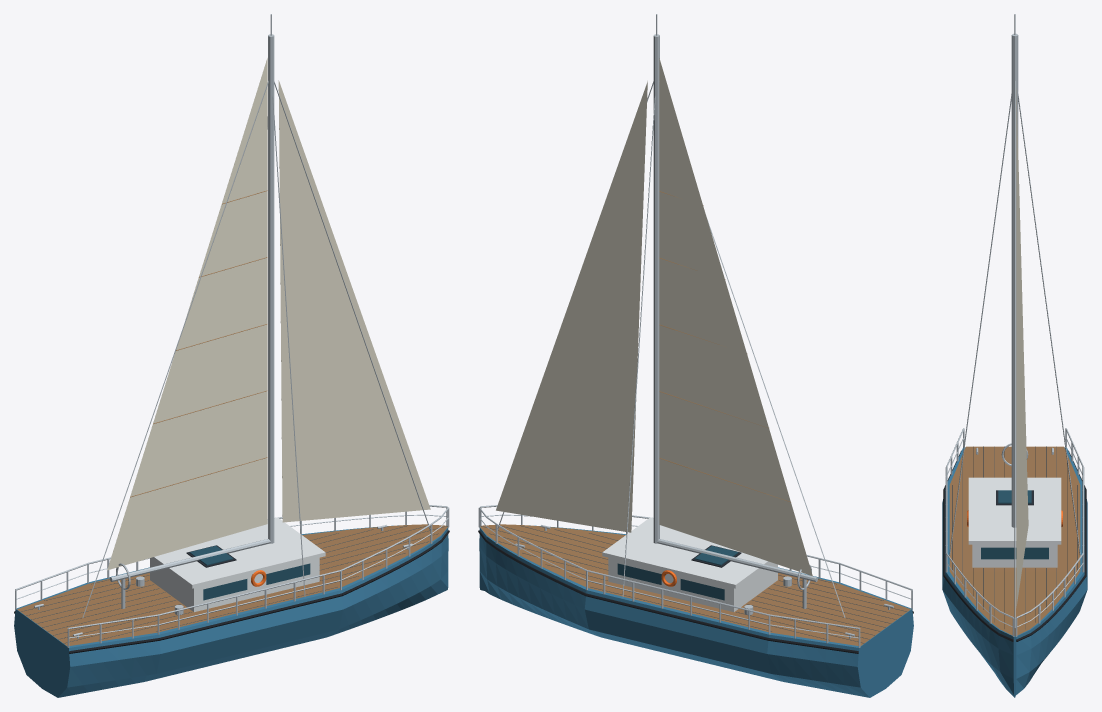
File: sailboat_lod0.glb
3 views of the same model, side by side, from view 1: azimuth 30°, elevation 25°; view 2: azimuth 150°, elevation 25°; view 3: azimuth 270°, elevation 25° (orthographic). The views are drawn at different scales.
Parts seen in each view (by area): view 1: body; view 2: body; view 3: body.
Part boxes in pixels (x1,y1,x2,y2): body: (14, 14, 449, 697); body: (478, 14, 913, 697); body: (942, 14, 1087, 697).
Bounding box in the file's own units: 10.04 × 14.58 × 3.2.
